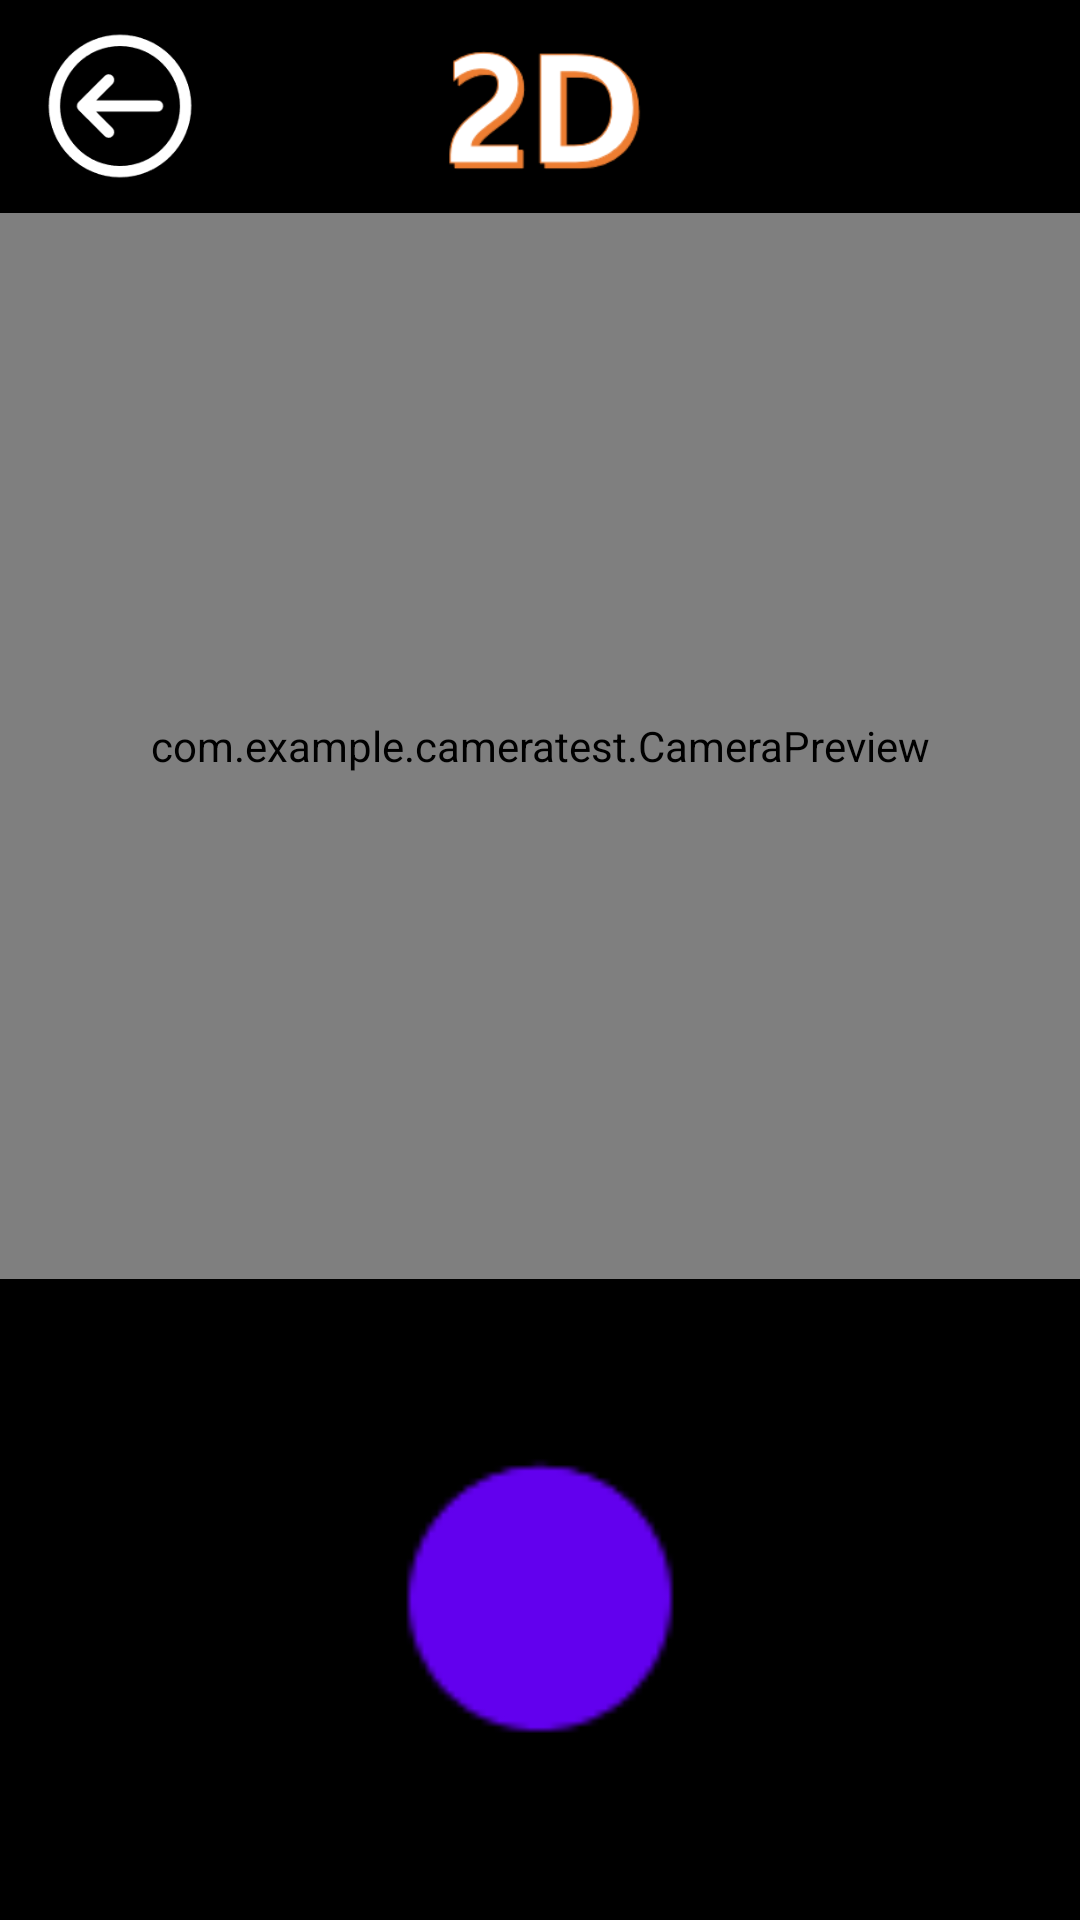

Where to tap for icons on this 1080w x 1920h app screen, as [x,y]:
backbutton: [120,106]
